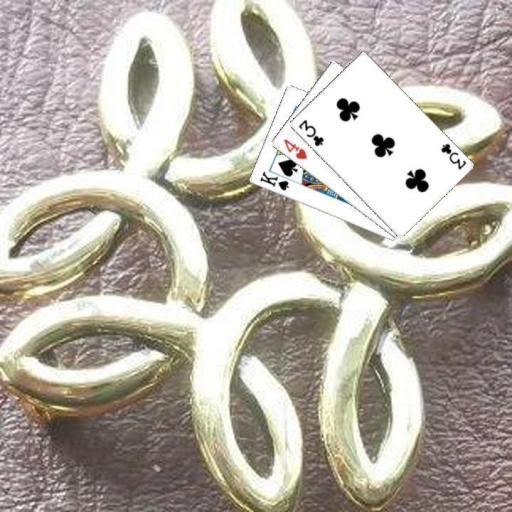card-corner: (437, 140, 468, 171), (295, 117, 325, 148), (256, 169, 290, 192), (280, 135, 309, 161)
